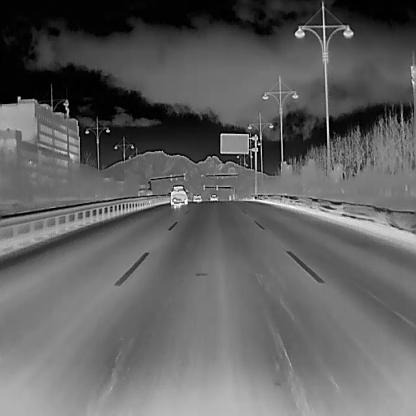car: (167, 184, 189, 206), (136, 187, 154, 203), (192, 192, 202, 202), (208, 194, 217, 202)
